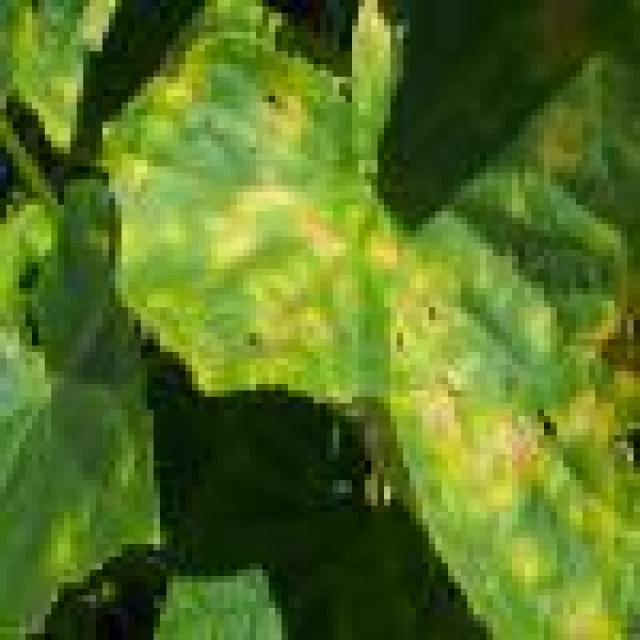Leaf Mold: (91, 27, 635, 635)
